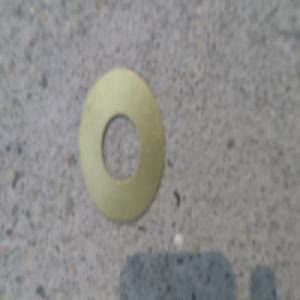Washer: (78, 69, 168, 230)
